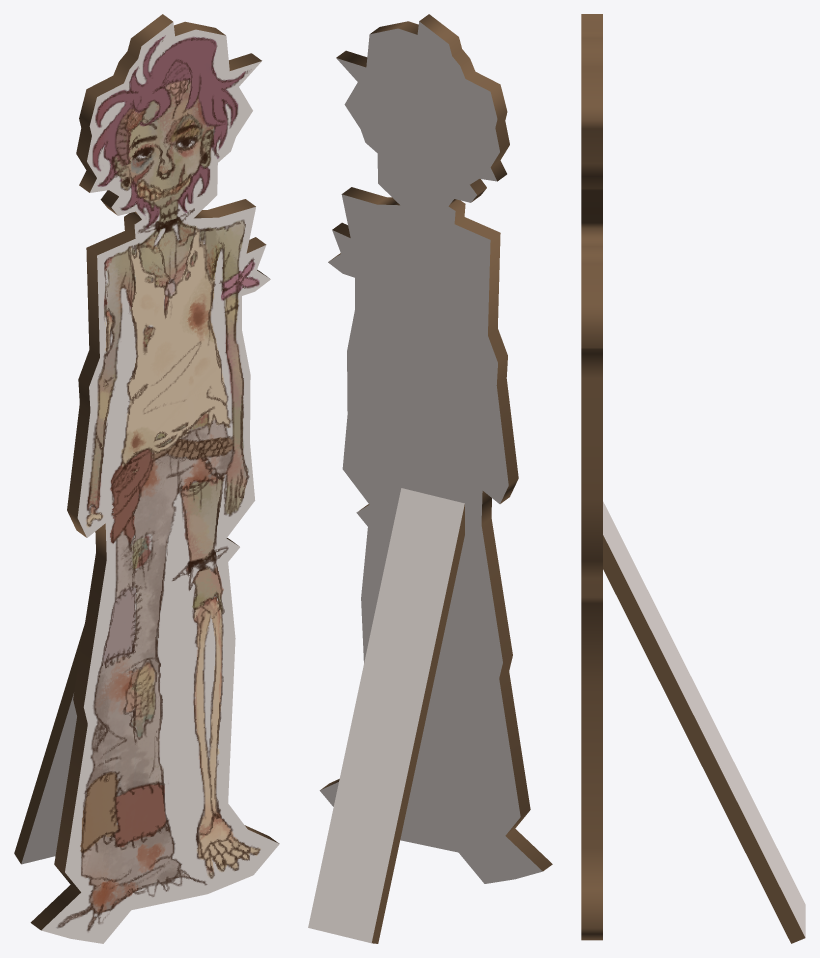
The model's file is Semlan_Neutral.fbx.
3 renders of one model, left to right at view 1: azimuth 30°, elevation 25°; view 2: azimuth 150°, elevation 25°; view 3: azimuth 270°, elevation 25°, orthographic. The views are drawn at different scales.
Parts seen in each view (by area): view 1: Semlan_Neutral; view 2: Semlan_Neutral; view 3: Semlan_Neutral.
Boxes of the visible parts, x1,y1,x2,y2 form: Semlan_Neutral: [14, 14, 279, 943]; Semlan_Neutral: [308, 14, 552, 943]; Semlan_Neutral: [581, 14, 805, 943].
Bounding box in the file's own units: 48.84 × 177 × 39.1.
Materials: 1 (1 with a texture image).
